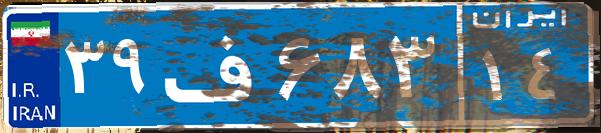1: (475, 38, 525, 113)
3: (385, 28, 445, 110), (57, 26, 110, 107)
4: (525, 38, 570, 115)
6: (273, 28, 330, 110)
8: (330, 28, 385, 110)
9: (110, 28, 158, 105)
ف: (158, 15, 273, 115)
